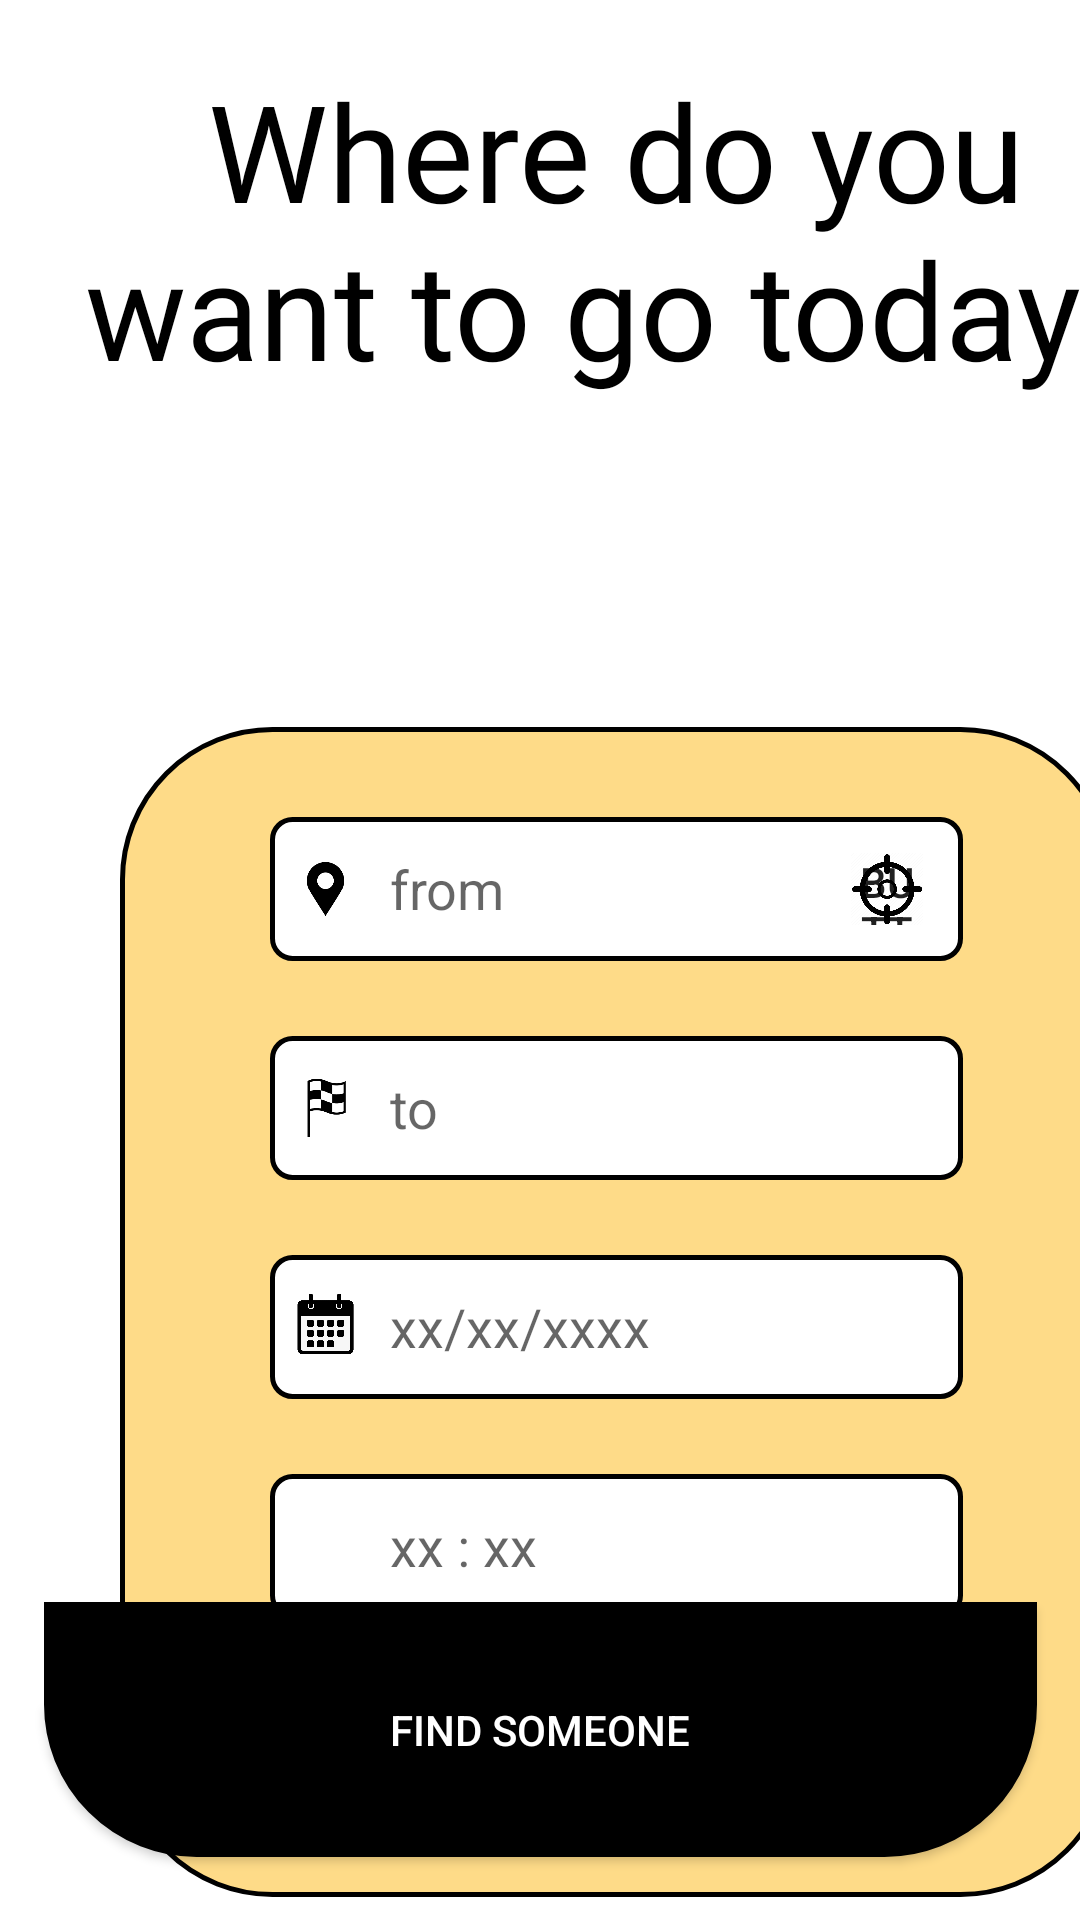

Screen size 1080w x 1920h. Icon name, then its box in pixels as bbox=[x1, y1, x2, y2]:
calender: bbox=[297, 1294, 354, 1354]
finish: bbox=[307, 1079, 346, 1137]
location: bbox=[307, 862, 344, 916]
